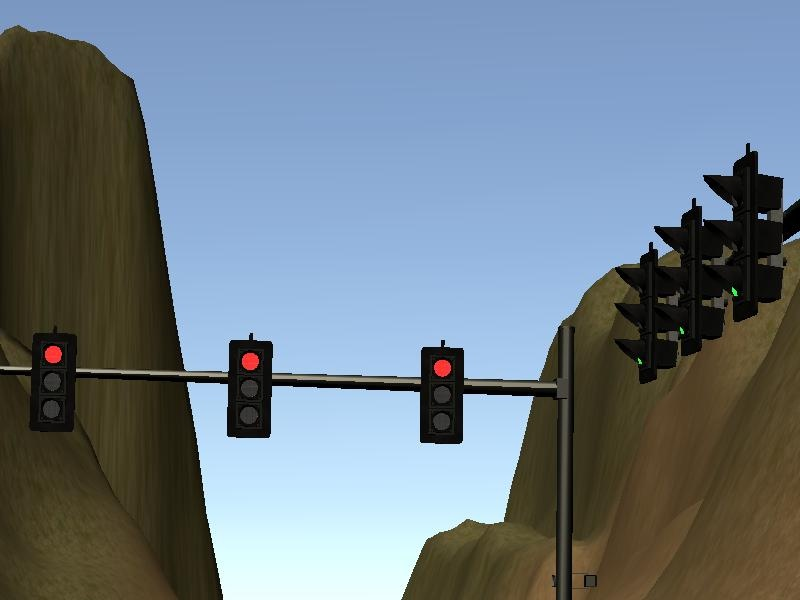RED: (226, 338, 271, 438), (418, 346, 463, 446), (31, 331, 76, 431)
